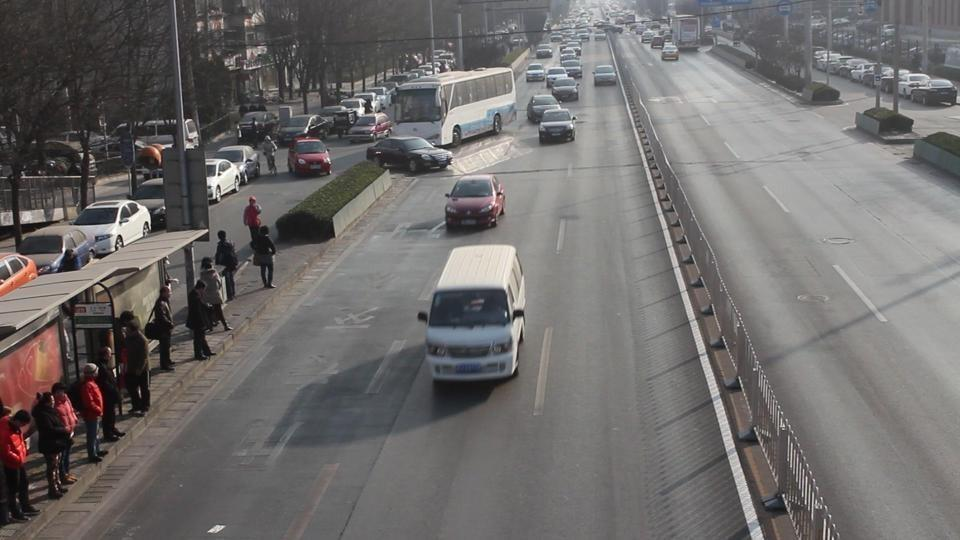car: (419, 243, 526, 383), (135, 155, 238, 205), (69, 198, 152, 255), (18, 223, 95, 274), (444, 174, 507, 230), (367, 134, 453, 175), (275, 113, 338, 148), (288, 137, 334, 177), (132, 180, 167, 230), (213, 145, 259, 183), (0, 253, 39, 297), (907, 76, 957, 106), (206, 155, 245, 193), (347, 113, 394, 144), (539, 107, 577, 144), (526, 93, 560, 124), (546, 70, 579, 101), (898, 72, 931, 101), (593, 64, 618, 86), (560, 60, 582, 80), (661, 41, 680, 62), (525, 65, 546, 84), (533, 44, 557, 60)
